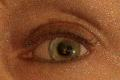eye: (49, 39, 80, 60)
